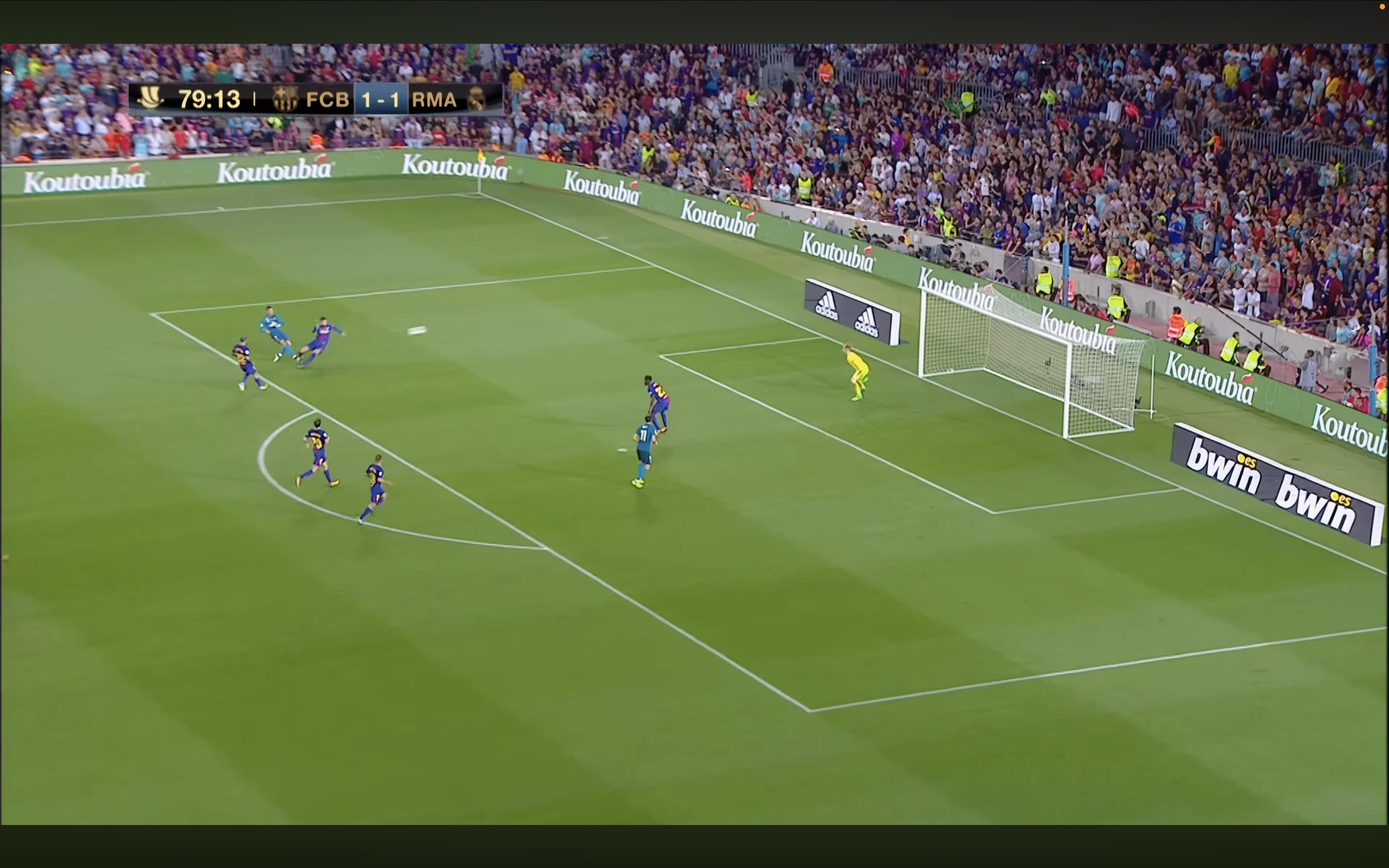ball: (407, 326, 427, 336)
goalkeeper: (843, 345, 869, 401)
player: (296, 420, 340, 486), (296, 317, 344, 367), (359, 454, 391, 524), (632, 415, 659, 488), (260, 307, 296, 361), (232, 336, 266, 390), (644, 375, 670, 434)
